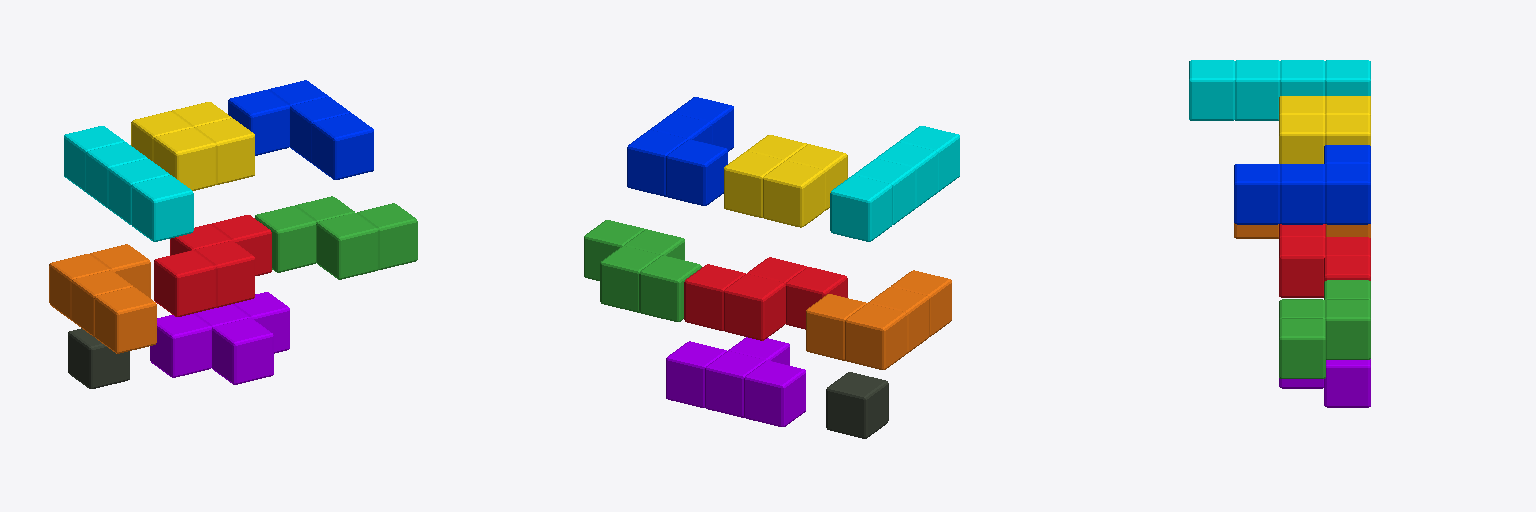
File: tinker.obj
3 views of the same model, side by side, from view 1: azimuth 30°, elevation 25°; view 2: azimuth 150°, elevation 25°; view 3: azimuth 270°, elevation 25° (orthographic).
Parts seen in each view (by area): view 1: obj_0; view 2: obj_0; view 3: obj_0.
Boxes of the visible parts, box(x1,y1,x2,y2) form: obj_0: box(49, 80, 417, 388); obj_0: box(584, 97, 959, 438); obj_0: box(1189, 60, 1370, 407).
Size of the model in its own units: 158 by 116 by 77.